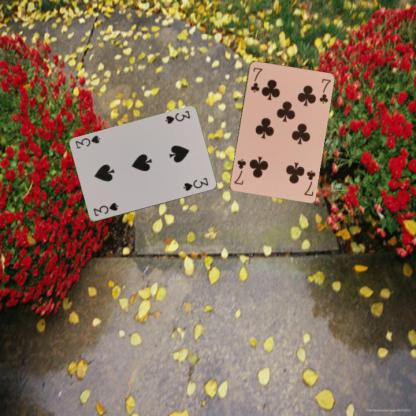3s: (162, 108, 192, 125), (90, 200, 119, 217)
7c: (301, 167, 317, 197), (248, 64, 263, 93)
